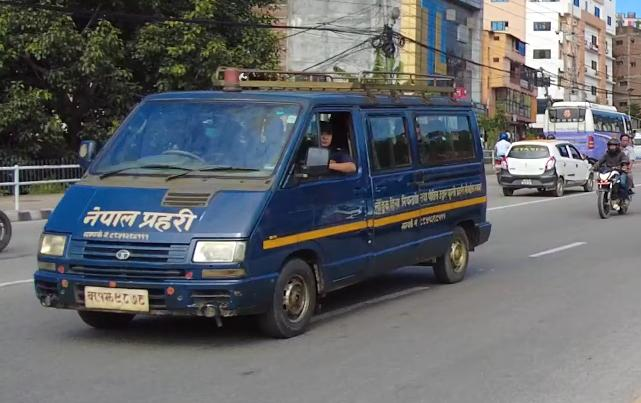police_vehicle: (31, 65, 492, 344)
